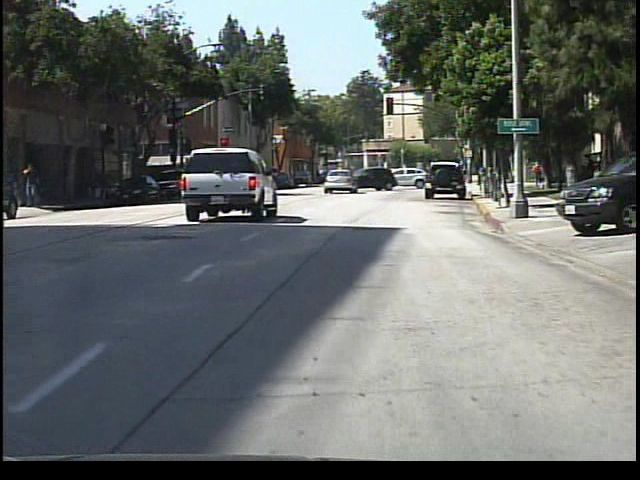person: (24, 160, 47, 209), (322, 161, 341, 191), (531, 158, 547, 190), (477, 155, 492, 183)
